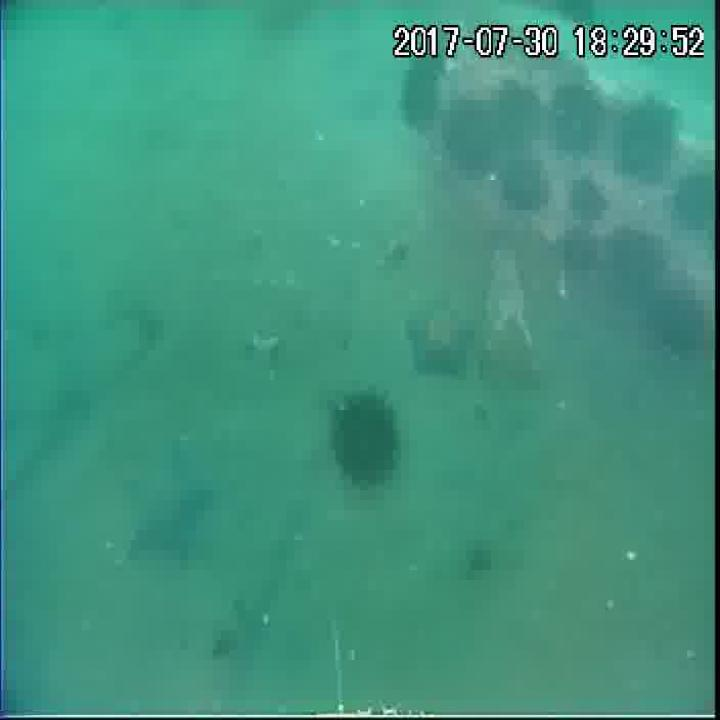echinus: (327, 388, 402, 482), (615, 95, 679, 189), (438, 101, 504, 185), (643, 280, 711, 360), (605, 229, 668, 310), (487, 76, 548, 152), (552, 76, 608, 154), (496, 151, 552, 225), (675, 160, 720, 236), (397, 64, 444, 130), (558, 226, 602, 276), (568, 174, 608, 222)
starfish: (121, 437, 212, 568), (403, 298, 480, 388)
